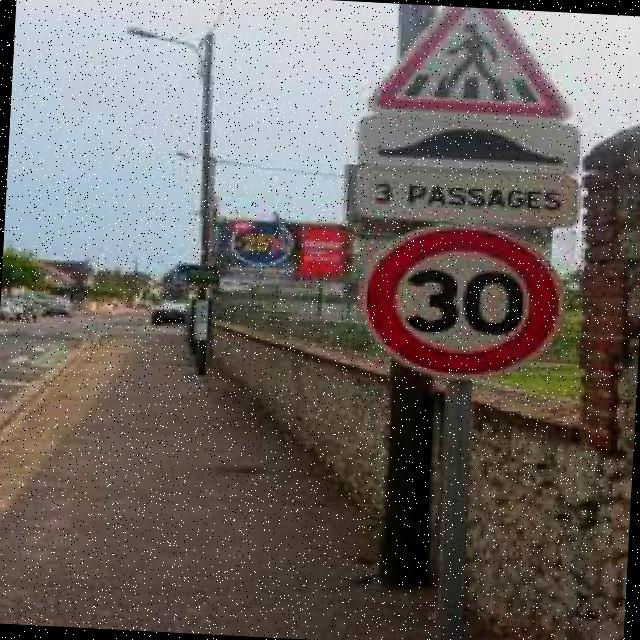Ograniczenie predkosci do 30: (358, 218, 572, 384)
